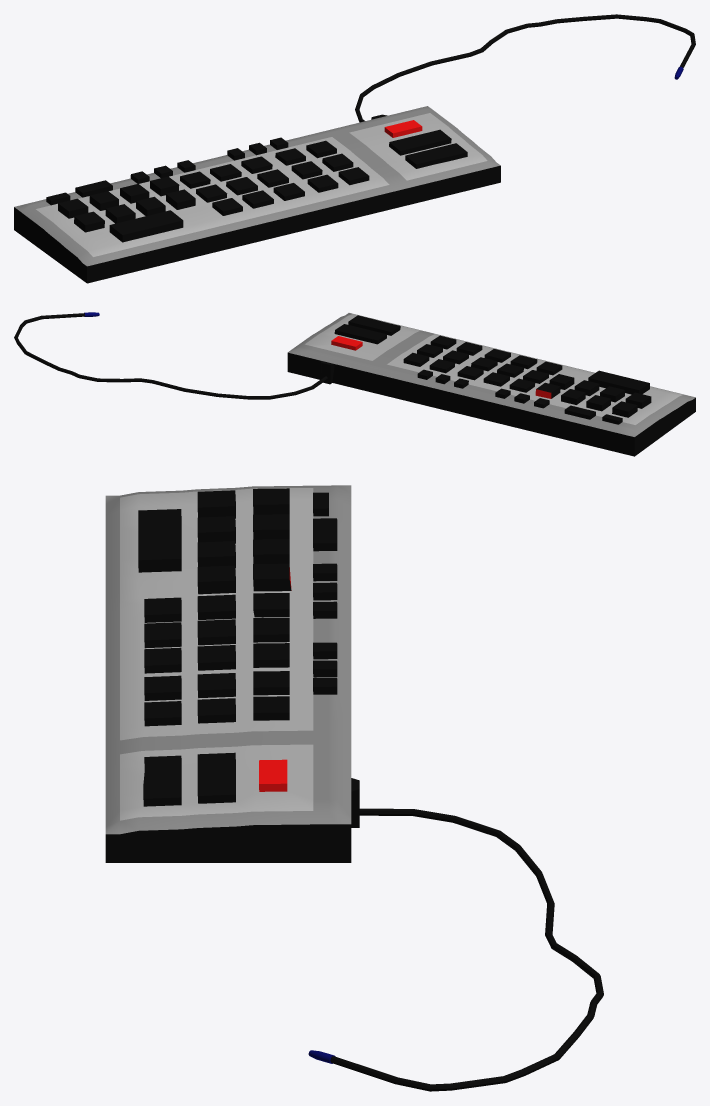
The model's file is Keyboard_1329.obj.
3 renders of one model, top to bottom at view 1: azimuth 30°, elevation 25°; view 2: azimuth 150°, elevation 25°; view 3: azimuth 270°, elevation 25°, orthographic. The views are drawn at different scales.
Visible parts, largest first — view 1: Object002; view 2: Object002; view 3: Object002.
Boxes of the visible parts, x1,y1,x2,y2 form: Object002: [14, 14, 695, 283]; Object002: [14, 313, 695, 456]; Object002: [105, 485, 603, 1091].
Bounding box in the file's own units: 37.81 × 1.74 × 13.81.
